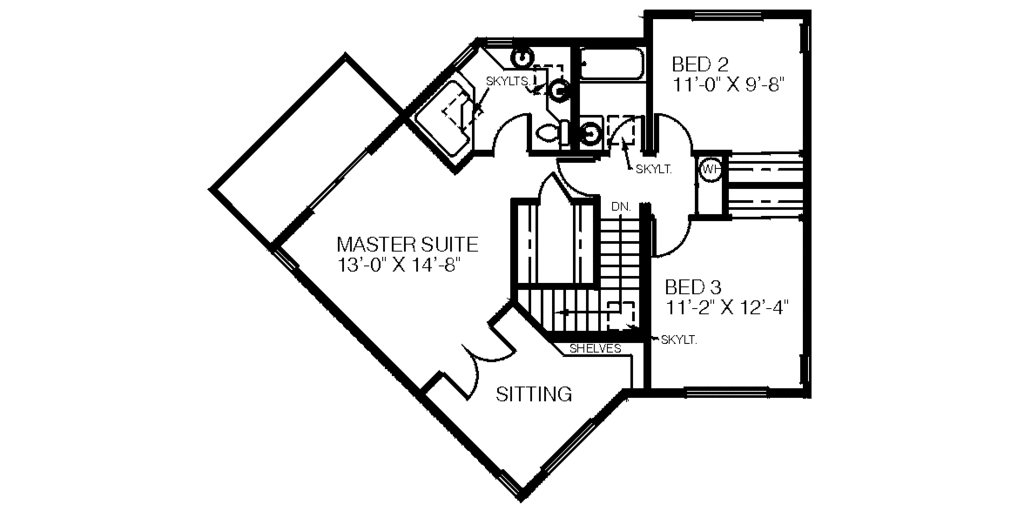door: (439, 313, 517, 399), (492, 109, 534, 157), (557, 158, 605, 195), (655, 106, 693, 152), (652, 215, 690, 254), (526, 169, 572, 201), (612, 113, 643, 155)
large_sink: (535, 116, 570, 148)
small_sink: (546, 73, 579, 113), (502, 43, 539, 76), (579, 113, 602, 150)
stairs: (534, 202, 639, 331)
tub: (581, 45, 648, 84)
window: (310, 152, 367, 209), (689, 382, 775, 400), (693, 5, 764, 22)
